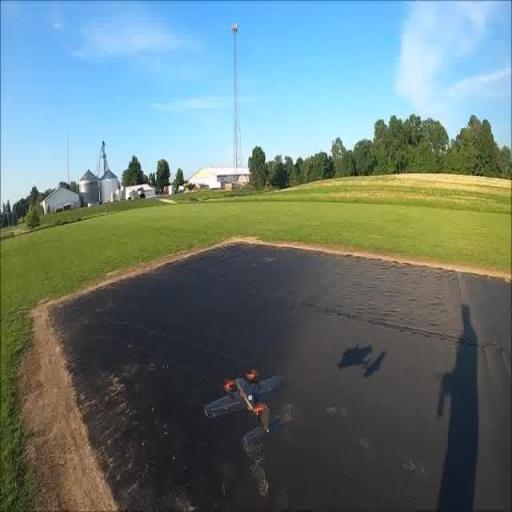uav: (203, 355, 290, 437)
